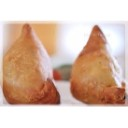samosa: (3, 23, 59, 105), (72, 26, 123, 104)
